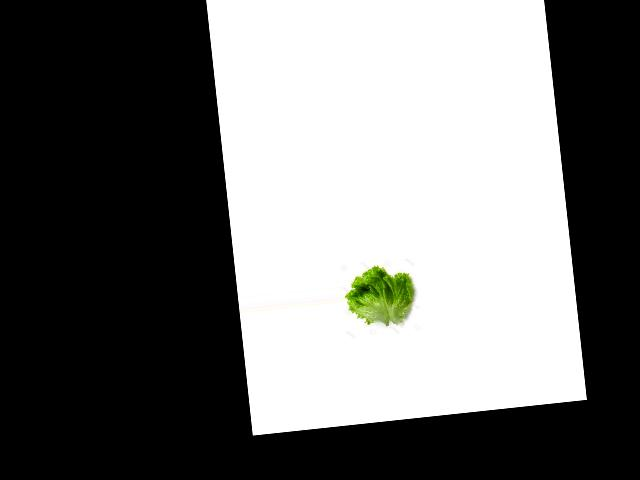lettuce: (341, 264, 422, 331)
